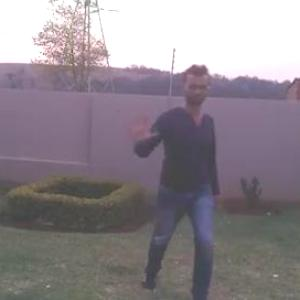follow_hand: (127, 112, 159, 144)
